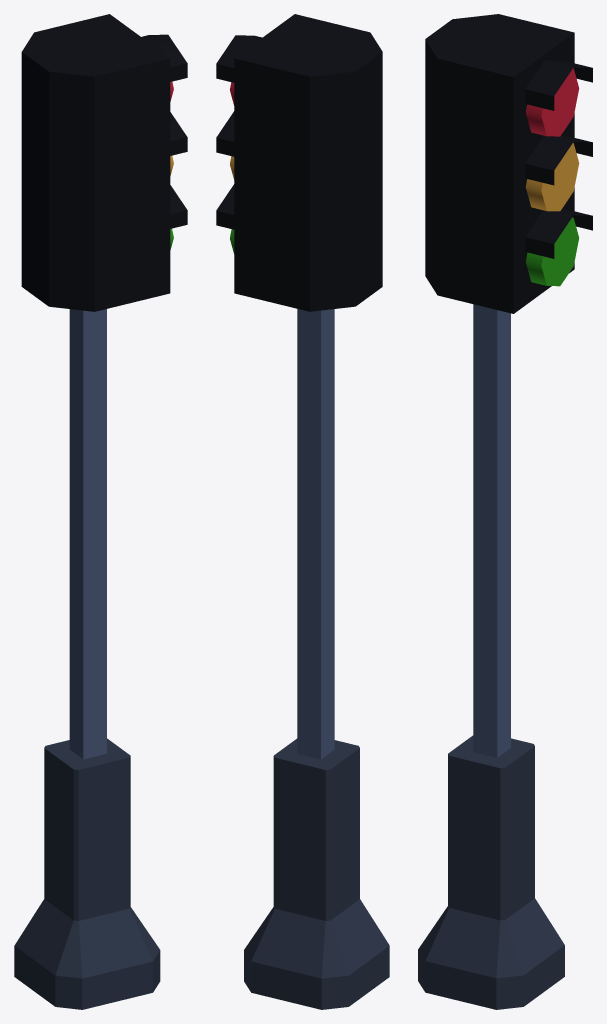
The model's file is traffi_clight.FBX.
The picture shows the model from 3 angles, left to right: view 1: azimuth 30°, elevation 25°; view 2: azimuth 150°, elevation 25°; view 3: azimuth 330°, elevation 25°; orthographic projection.
Visible parts, largest first — view 1: traffic light; view 2: traffic light; view 3: traffic light.
Part boxes in pixels (bbox=[...]): traffic light: bbox=[14, 14, 187, 1009]; traffic light: bbox=[216, 14, 389, 1009]; traffic light: bbox=[418, 14, 592, 1009].
Size of the model in its own units: 4.37 by 29.08 by 3.45.
